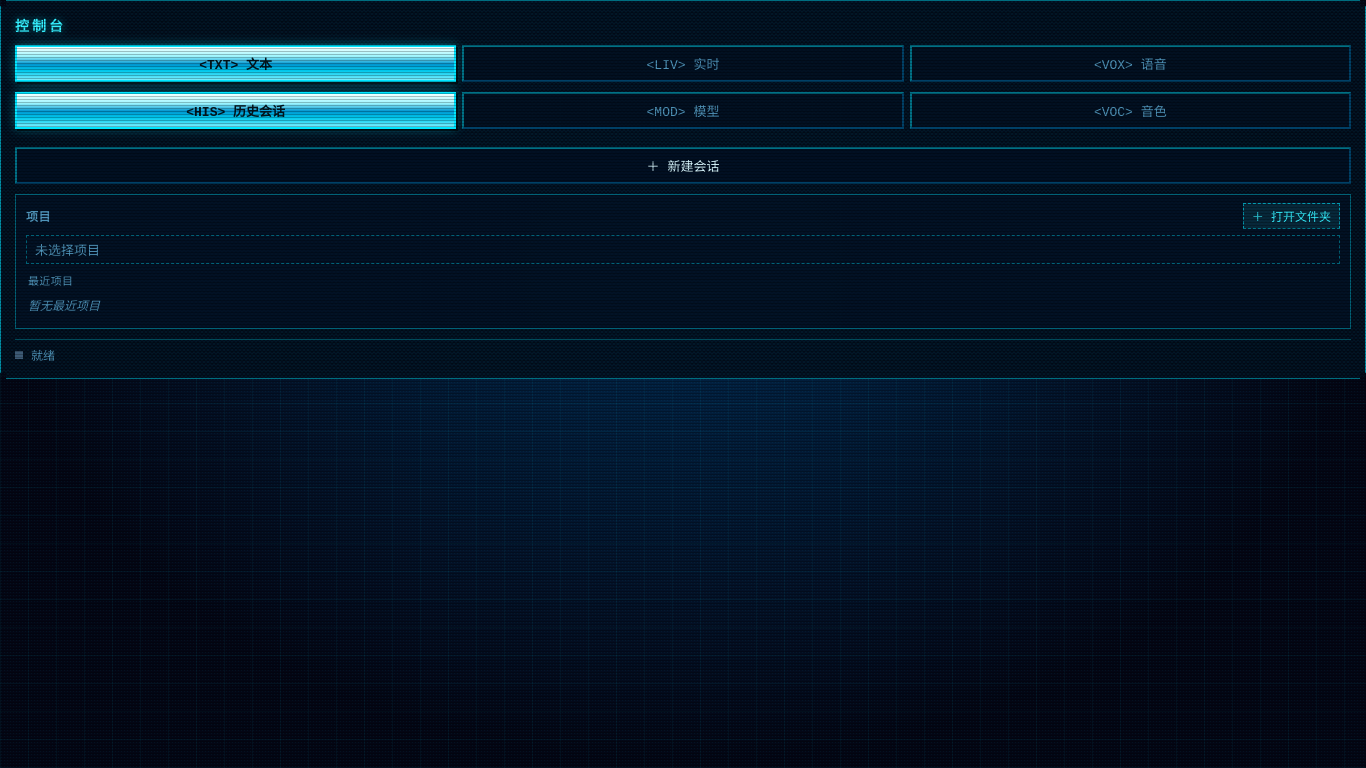
LeftSidebar 面板切换 › 点击切换到模型 / 音色面板
Click the button "<MOD> 模型".
click(683, 110)  # box [462,92,904,129]
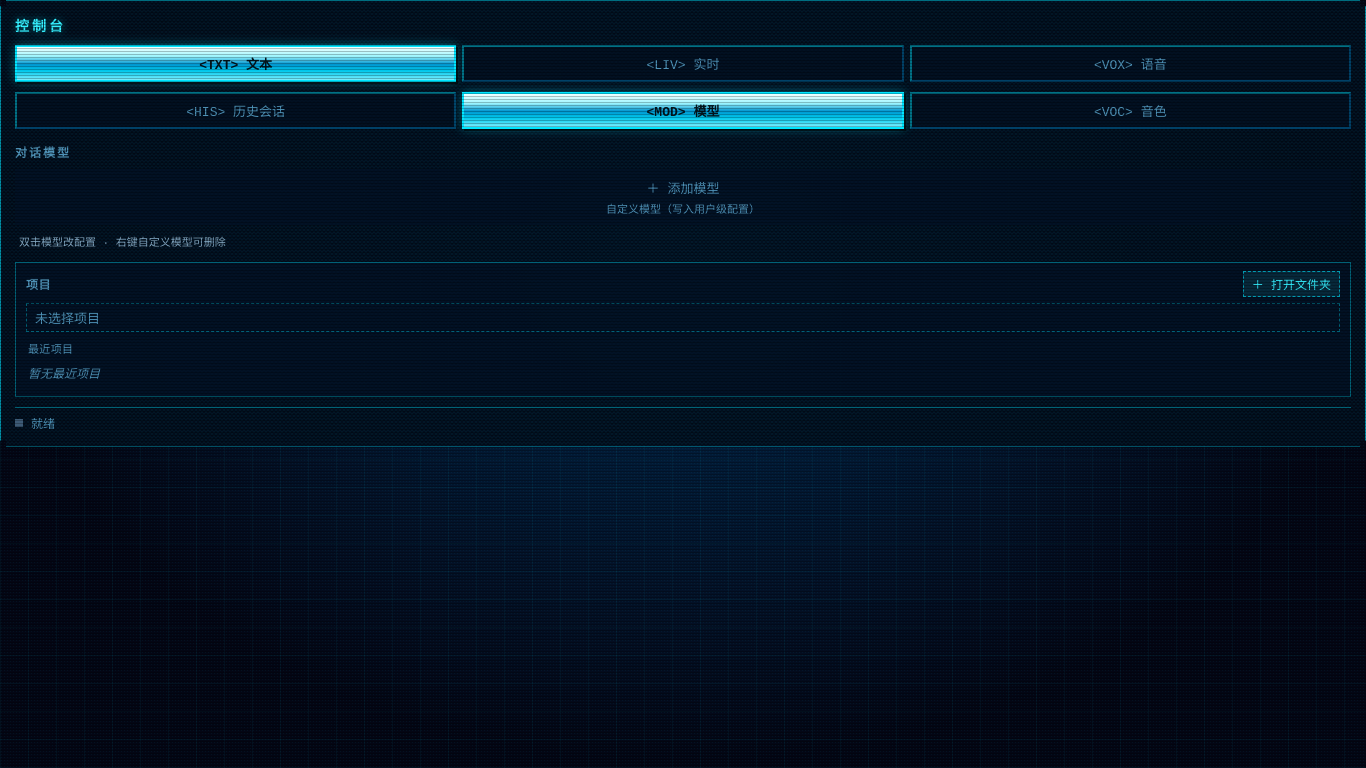
Expected: the element with test id "panel-model" is shown, [15,139,1351,252]
Expected: the element with test id "panel-history" is gone
Click the button "<VOC> 音色".
click(1130, 110)  # box [910,92,1351,129]
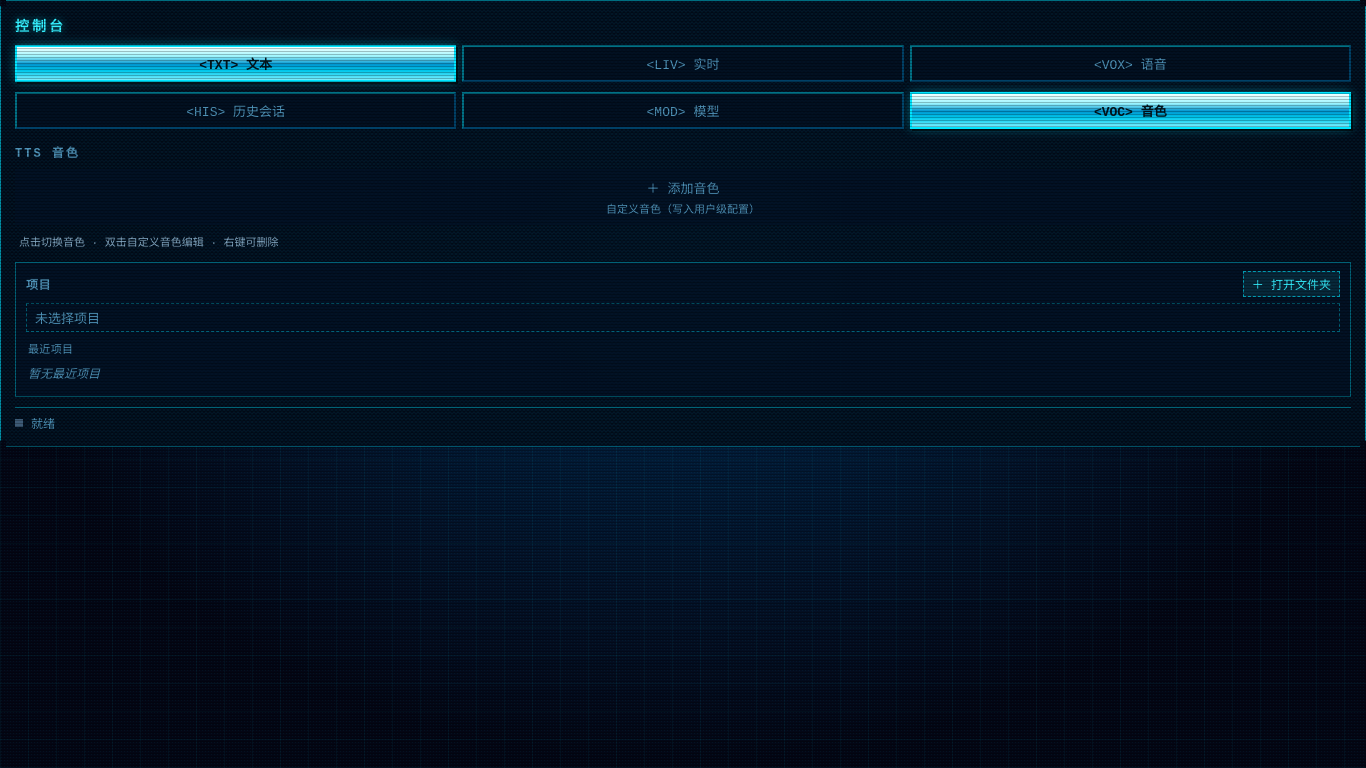
Expected: the element with test id "panel-voice" is shown, [15,139,1351,252]
Expected: the element with test id "panel-model" is gone
